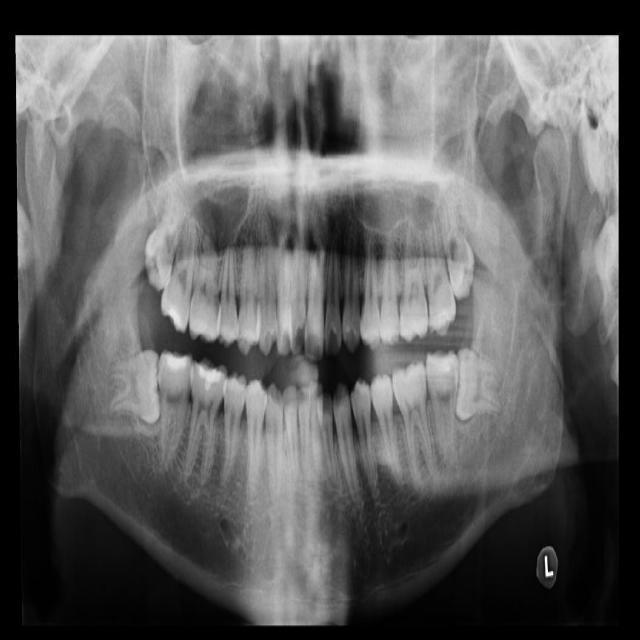Filling: (198, 363, 221, 387), (162, 355, 189, 368)
impacted tooth: (97, 348, 159, 425), (144, 179, 184, 280), (455, 350, 508, 419), (438, 197, 472, 295)
